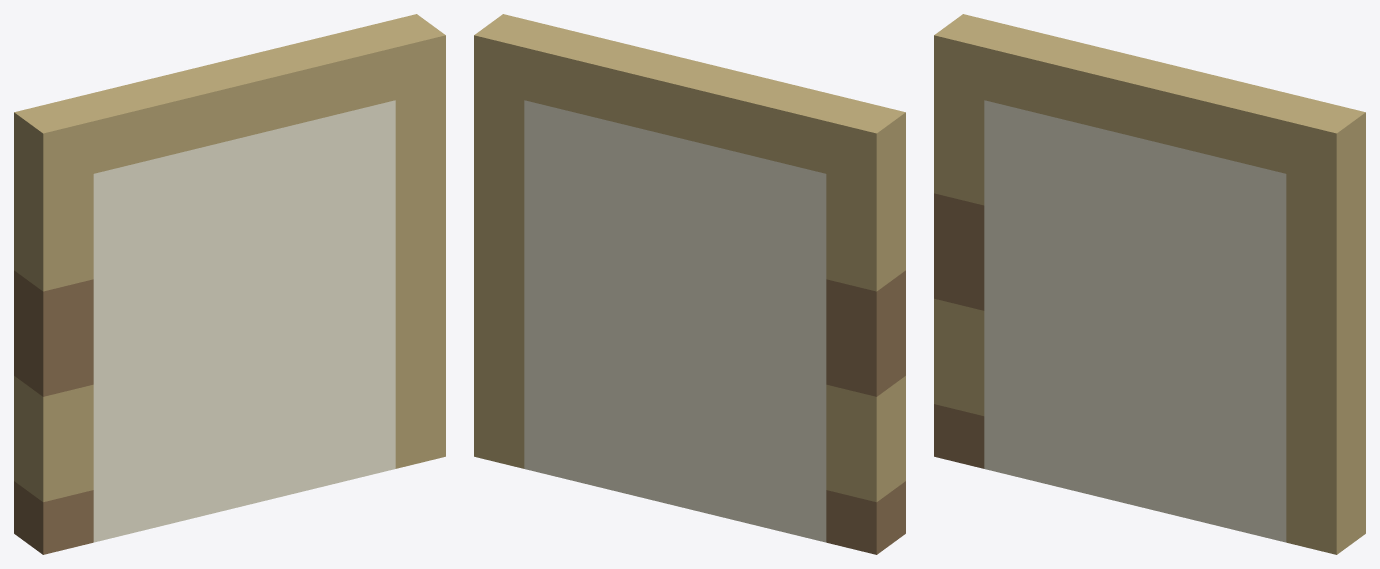
Rendered from _Aspen Door Top.glb.
3 views of the same model, side by side, from view 1: azimuth 30°, elevation 25°; view 2: azimuth 150°, elevation 25°; view 3: azimuth 330°, elevation 25° (orthographic).
Visible parts, largest first — view 1: generated(Clone); view 2: generated(Clone); view 3: generated(Clone).
Part boxes in pixels (bbox=[...]): generated(Clone): bbox=[14, 14, 445, 554]; generated(Clone): bbox=[474, 14, 905, 554]; generated(Clone): bbox=[934, 14, 1365, 554].
Size of the model in its own units: 8 by 8 by 1.
Materials: 1 (1 with a texture image).
